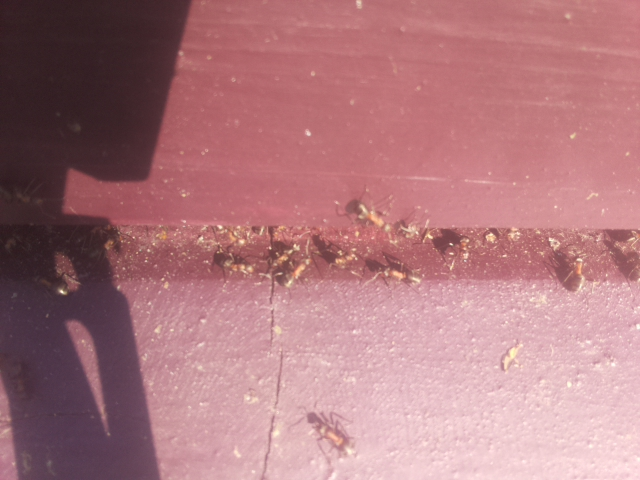ant: (301, 403, 360, 469), (340, 193, 400, 239), (306, 229, 354, 269), (29, 264, 79, 300), (6, 356, 39, 402), (275, 256, 312, 292), (210, 248, 259, 275), (565, 251, 589, 297), (498, 336, 523, 372)
